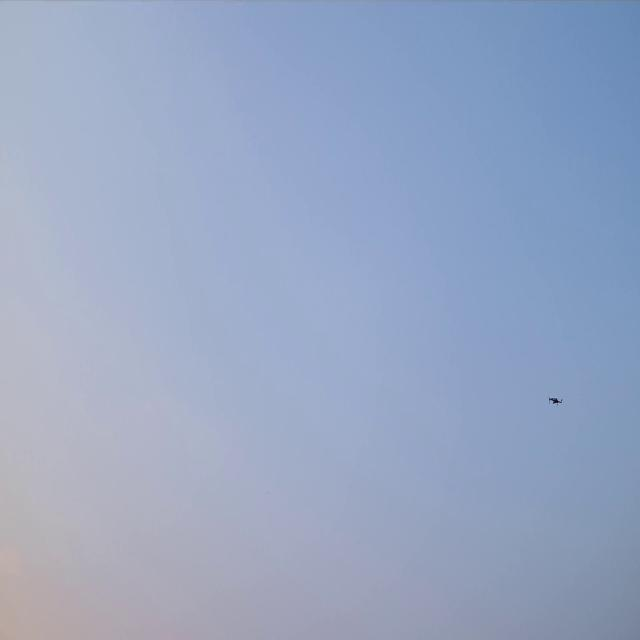UAV: (548, 394, 562, 406)
